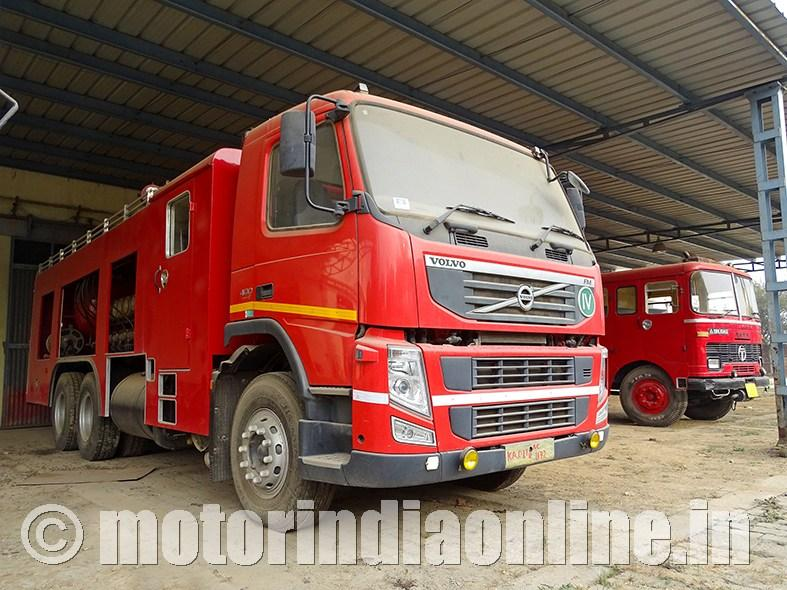Fire-engine: (27, 87, 617, 513), (604, 260, 777, 422)
